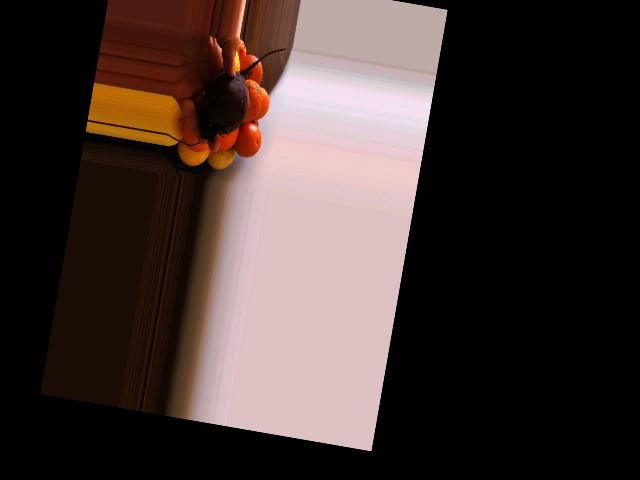beet: (195, 36, 285, 150)
